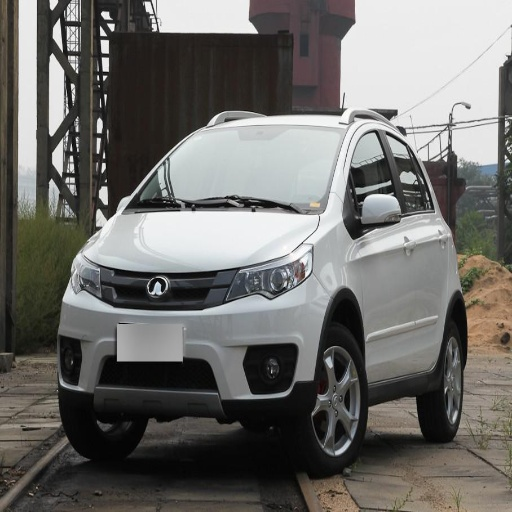front_bumper: (59, 265, 328, 417)
front_glass: (123, 125, 344, 214)
front_left_door: (346, 124, 416, 381)
